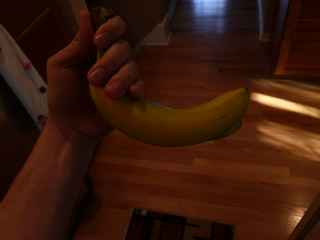banana: (79, 5, 253, 150)
